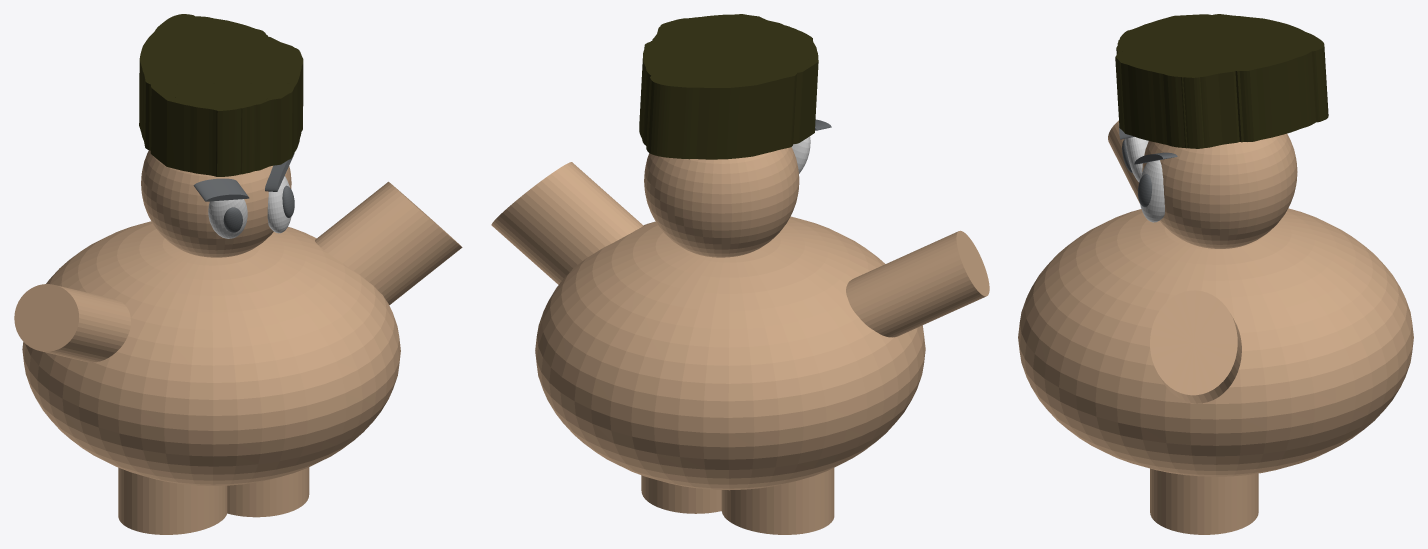
The model's file is Brave Kasi-Inari.glb.
The picture shows the model from 3 angles, left to right: view 1: azimuth 30°, elevation 25°; view 2: azimuth 150°, elevation 25°; view 3: azimuth 270°, elevation 25°; orthographic projection. The views are drawn at different scales.
Parts seen in each view (by area): view 1: Mesh_Mesh_head_geo.001_lambert2SG.001; view 2: Mesh_Mesh_head_geo.001_lambert2SG.001; view 3: Mesh_Mesh_head_geo.001_lambert2SG.001.
Boxes of the visible parts, left/top/right/bottom form: Mesh_Mesh_head_geo.001_lambert2SG.001: left=14, top=14, right=462, bottom=534; Mesh_Mesh_head_geo.001_lambert2SG.001: left=491, top=14, right=989, bottom=534; Mesh_Mesh_head_geo.001_lambert2SG.001: left=1018, top=14, right=1413, bottom=534.
Bounding box in the file's own units: 0.0695 × 0.0649 × 0.051.
